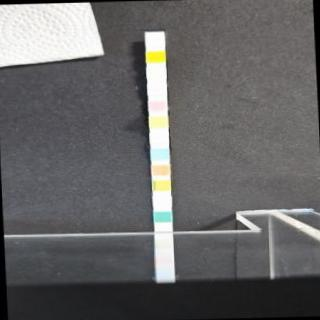mark: (152, 195, 172, 208), (148, 99, 168, 112), (149, 116, 168, 129), (146, 66, 165, 79), (145, 35, 165, 47), (149, 132, 168, 144), (154, 210, 172, 222), (152, 179, 170, 191), (151, 163, 169, 175), (150, 148, 168, 160), (148, 83, 166, 95), (146, 51, 164, 62)
